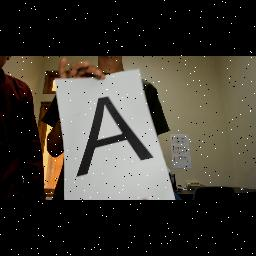a: (76, 92, 154, 180)
